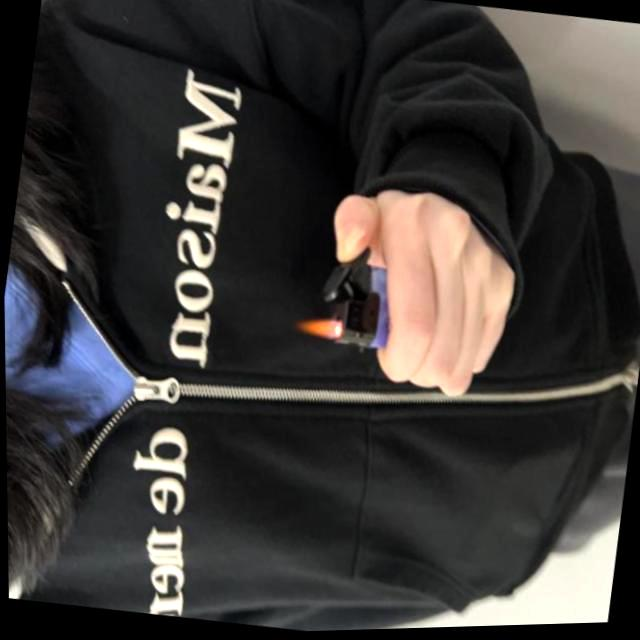fire: (290, 308, 342, 344)
